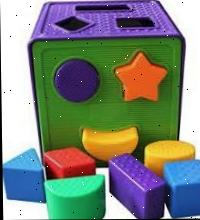cube: (32, 0, 187, 157), (166, 161, 200, 219)
